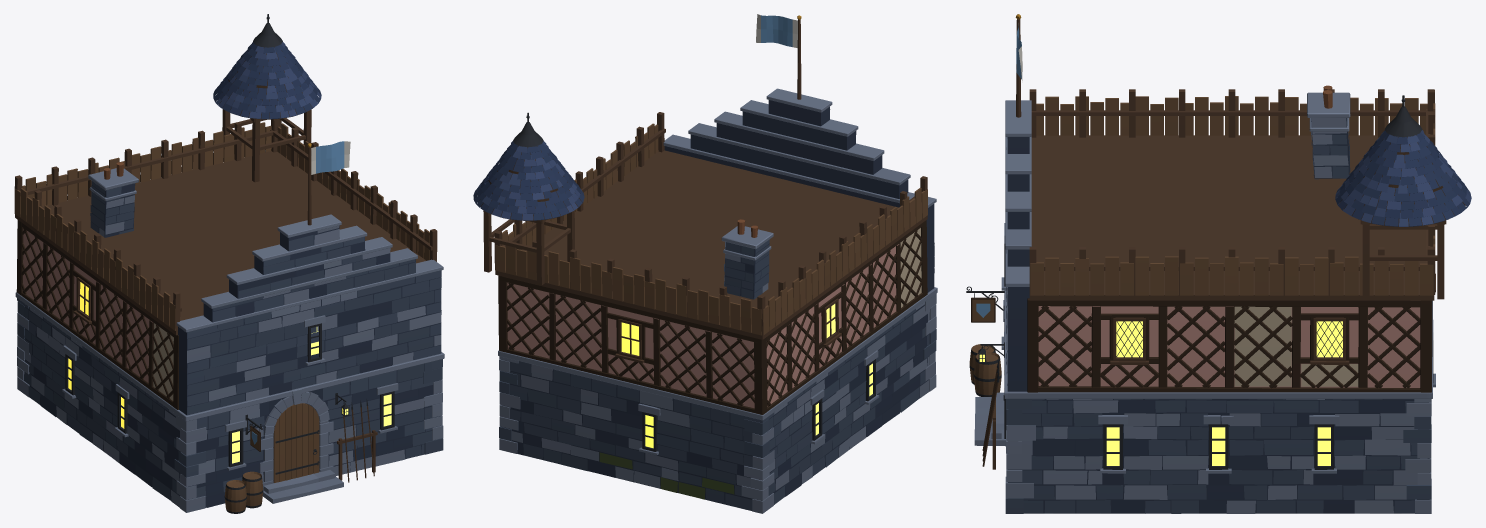
Rendered from barracks.glb.
3 views of the same model, side by side, from view 1: azimuth 30°, elevation 25°; view 2: azimuth 150°, elevation 25°; view 3: azimuth 270°, elevation 25° (orthographic). The views are drawn at different scales.
Parts seen in each view (by area): view 1: isl_barracks; view 2: isl_barracks; view 3: isl_barracks.
Part boxes in pixels (x1,y1,x2,y2): isl_barracks: [14, 14, 444, 513]; isl_barracks: [473, 14, 937, 513]; isl_barracks: [966, 14, 1471, 513].
Size of the model in its own units: 9.54 by 10.58 by 11.49.
